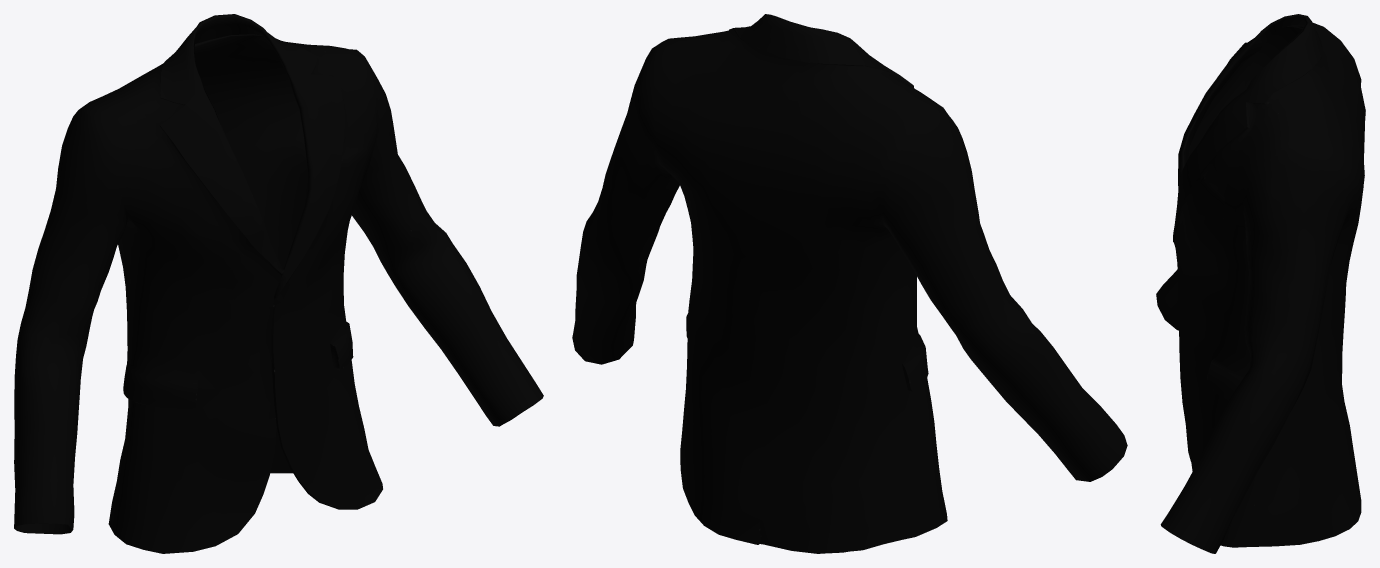
Rendered from black_suit.glb.
3 renders of one model, left to right at view 1: azimuth 30°, elevation 25°; view 2: azimuth 150°, elevation 25°; view 3: azimuth 270°, elevation 25°, orthographic. The views are drawn at different scales.
Visible parts, largest first — view 1: node_id7; view 2: node_id7; view 3: node_id7.
Part boxes in pixels (x1=…): node_id7: x1=14, y1=14, x2=543, y2=553; node_id7: x1=572, y1=14, x2=1127, y2=553; node_id7: x1=1156, y1=14, x2=1365, y2=553.
Size of the model in its own units: 0.2553 by 0.2264 by 0.0896.
Materials: 1 (1 with a texture image).
